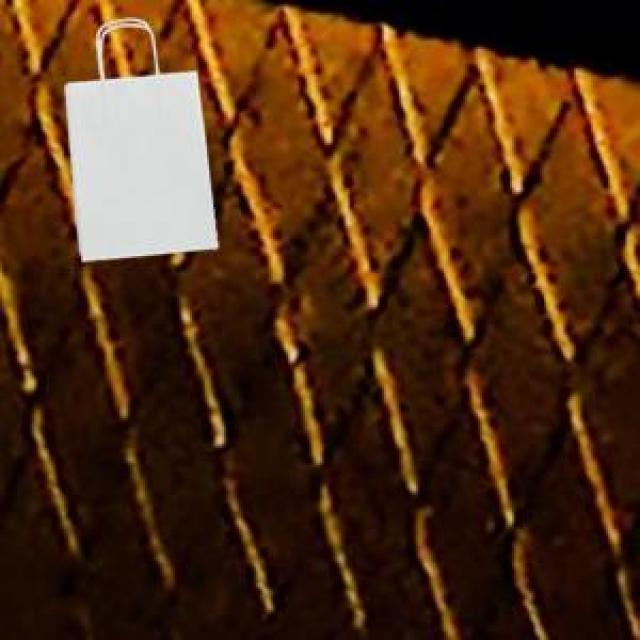paper: (62, 32, 213, 258)
